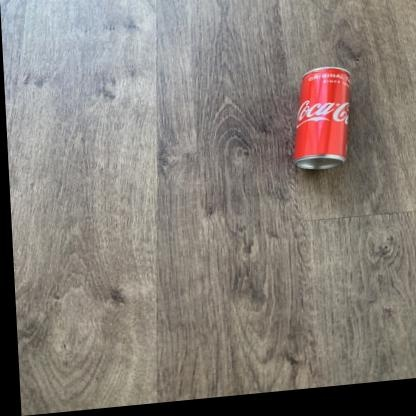trash: (293, 67, 350, 169)
